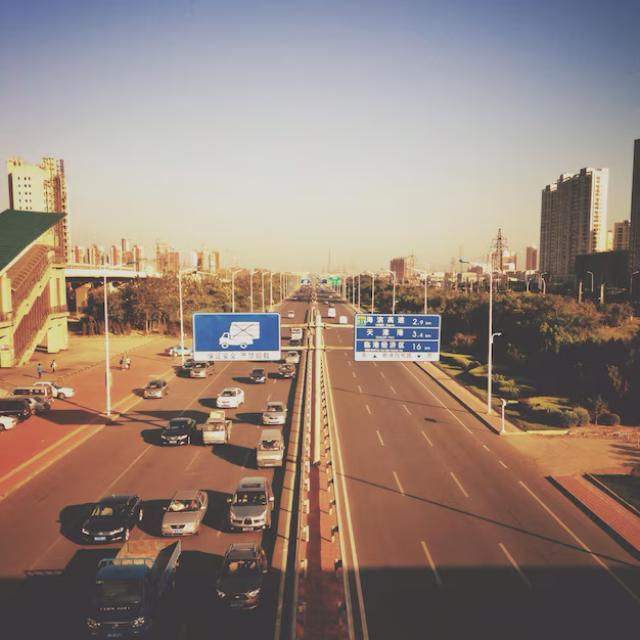Billboard_overhead: (348, 298, 457, 370), (180, 308, 294, 370)
Billboard_overhead_small: (325, 271, 341, 288), (298, 273, 312, 290)
Roadcorner: (405, 373, 639, 612), (320, 366, 387, 619)
Roadlane: (387, 386, 557, 613), (346, 379, 480, 623)
